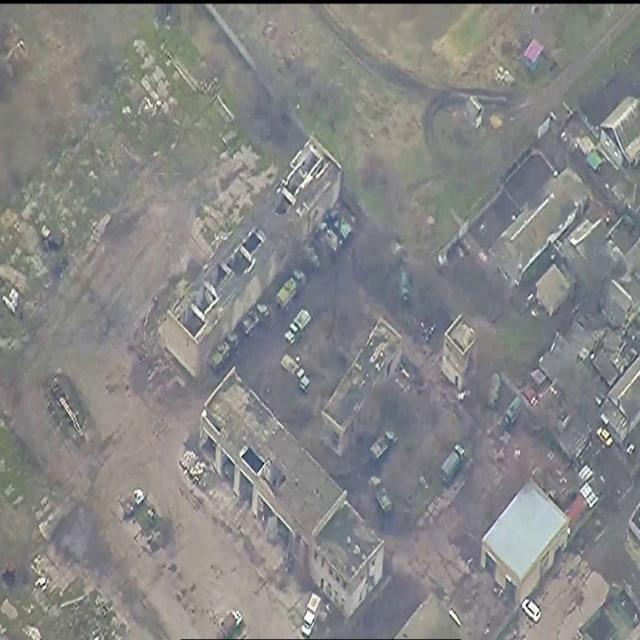Vehicle: (280, 353, 311, 397), (212, 335, 242, 376), (277, 274, 307, 314), (285, 312, 313, 351), (368, 476, 394, 518), (441, 447, 467, 485), (301, 595, 323, 637), (318, 222, 342, 259), (245, 304, 271, 336), (327, 211, 355, 240), (372, 432, 398, 462), (221, 611, 245, 638), (125, 489, 147, 517), (523, 595, 541, 626), (598, 424, 614, 451)
